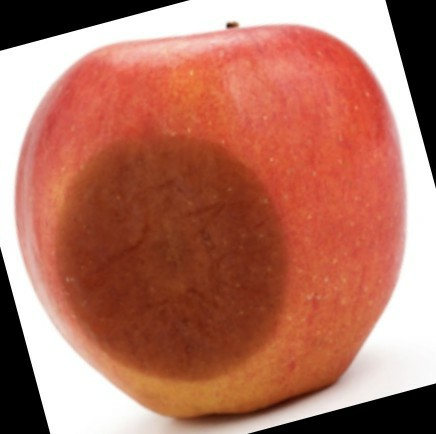rotten_apple: (17, 27, 406, 413)
